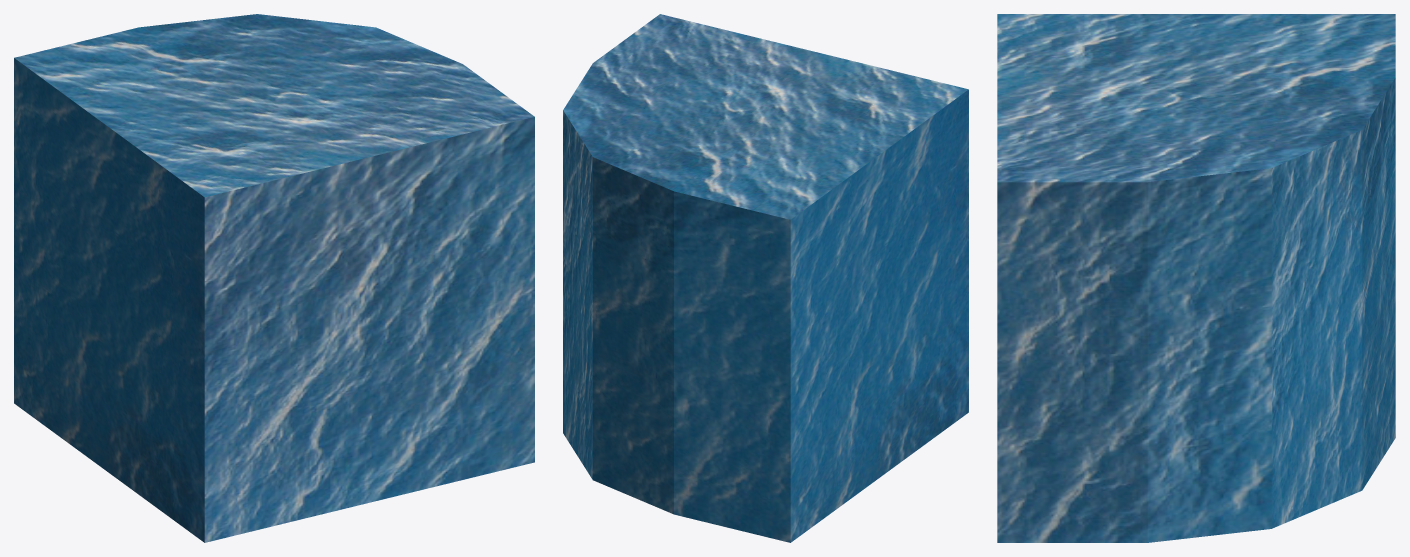
The model's file is WaterCurved.glb.
The picture shows the model from 3 angles, left to right: view 1: azimuth 30°, elevation 25°; view 2: azimuth 150°, elevation 25°; view 3: azimuth 270°, elevation 25°; orthographic projection. The views are drawn at different scales.
Parts seen in each view (by area): view 1: Cube; view 2: Cube; view 3: Cube.
Part boxes in pixels (box(x1,y1,x2,y2)): Cube: box(14, 14, 534, 542); Cube: box(563, 14, 968, 542); Cube: box(997, 14, 1395, 542).
Size of the model in its own units: 2 by 2 by 2.
Materials: 1 (1 with a texture image).
